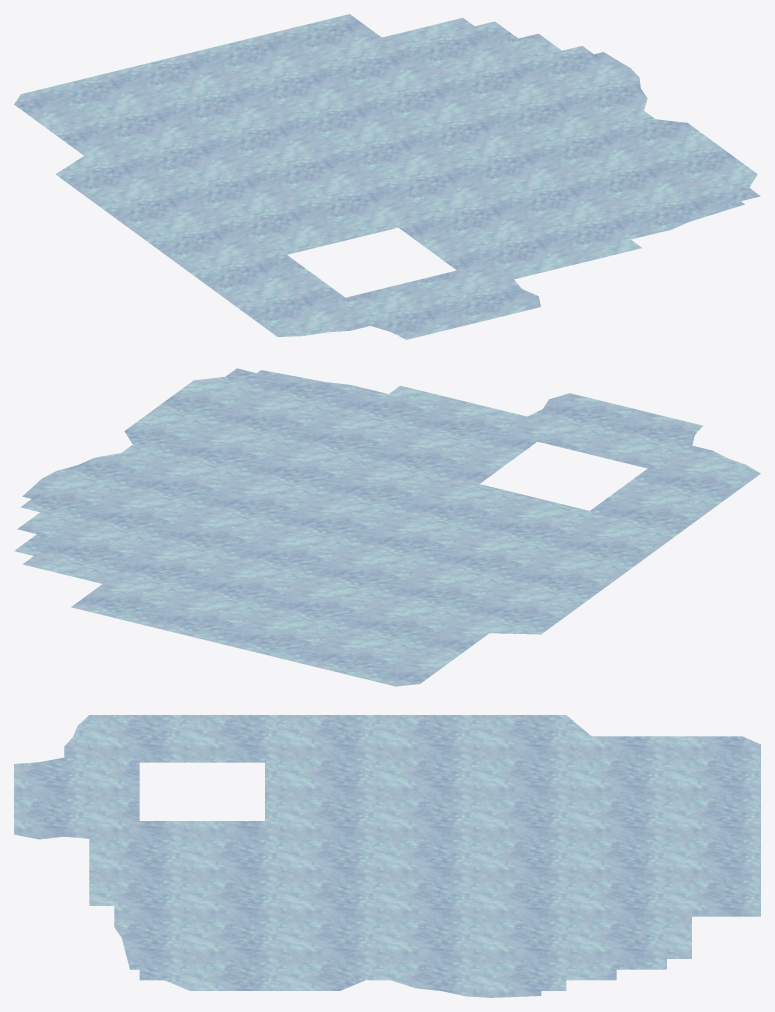
The model's file is LGhuangyuan_Terrian.FBX.
3 renders of one model, top to bottom at view 1: azimuth 30°, elevation 25°; view 2: azimuth 150°, elevation 25°; view 3: azimuth 270°, elevation 25°, orthographic. The views are drawn at different scales.
Visible parts, largest first — view 1: LGhuangyuan_Terrian; view 2: LGhuangyuan_Terrian; view 3: LGhuangyuan_Terrian.
Boxes of the visible parts, <box> form: LGhuangyuan_Terrian: <box>14,14,760,339</box>; LGhuangyuan_Terrian: <box>14,368,760,686</box>; LGhuangyuan_Terrian: <box>14,715,760,997</box>.
Size of the model in its own units: 5022 by 5605 by 2.41.
1 material, 1 textured.
